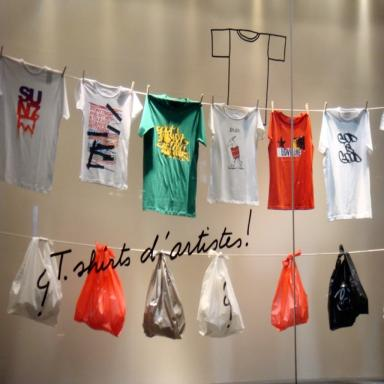plasticbag: (72, 240, 127, 338), (6, 234, 62, 325), (195, 246, 244, 335), (142, 245, 186, 338), (325, 242, 369, 329), (267, 246, 309, 332)
